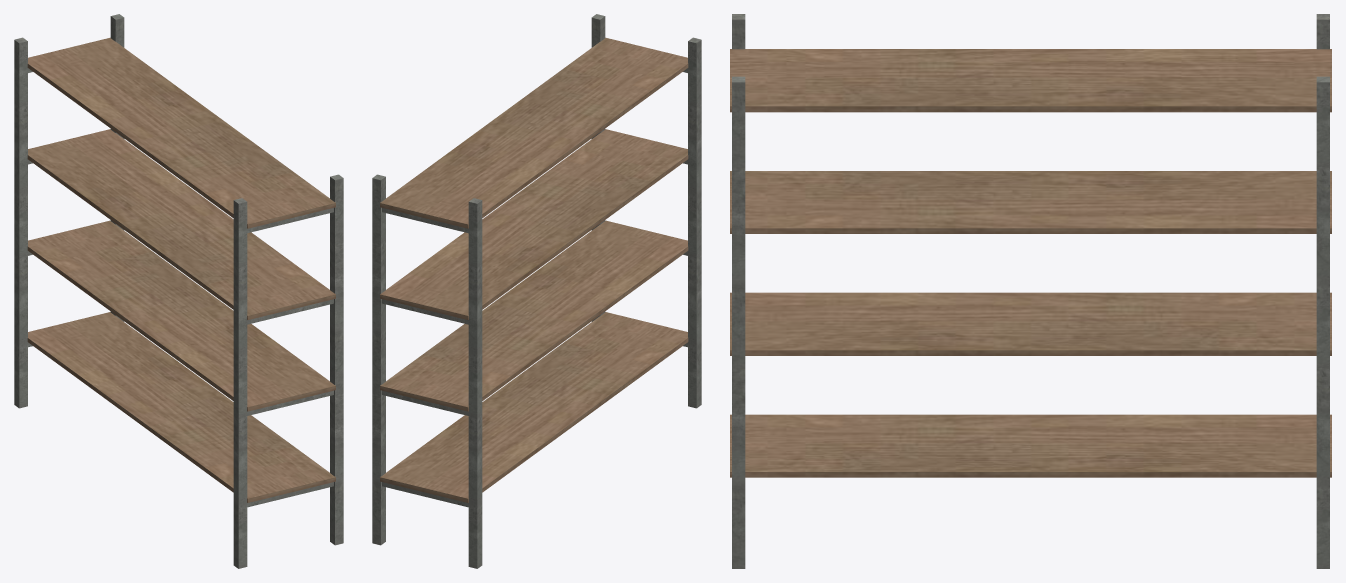
File: shlef.glb
The picture shows the model from 3 angles, left to right: view 1: azimuth 30°, elevation 25°; view 2: azimuth 150°, elevation 25°; view 3: azimuth 270°, elevation 25°; orthographic projection. The views are drawn at different scales.
Parts seen in each view (by area): view 1: shelf; view 2: shelf; view 3: shelf.
Boxes of the visible parts, box(x1,y1,x2,y2) form: shelf: box(14, 14, 343, 568); shelf: box(372, 14, 701, 568); shelf: box(730, 14, 1331, 568).
Size of the model in its own units: 0.8382 by 2.78 by 3.12.
Materials: 2 (2 with a texture image).
